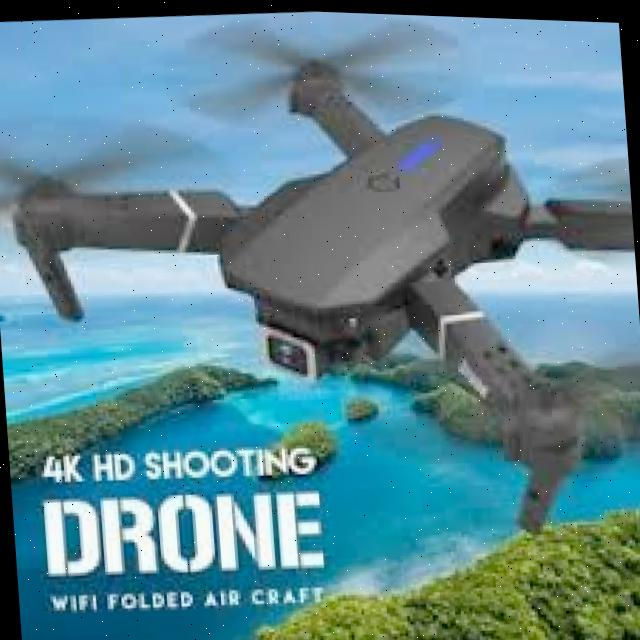drone: (0, 0, 640, 580)
